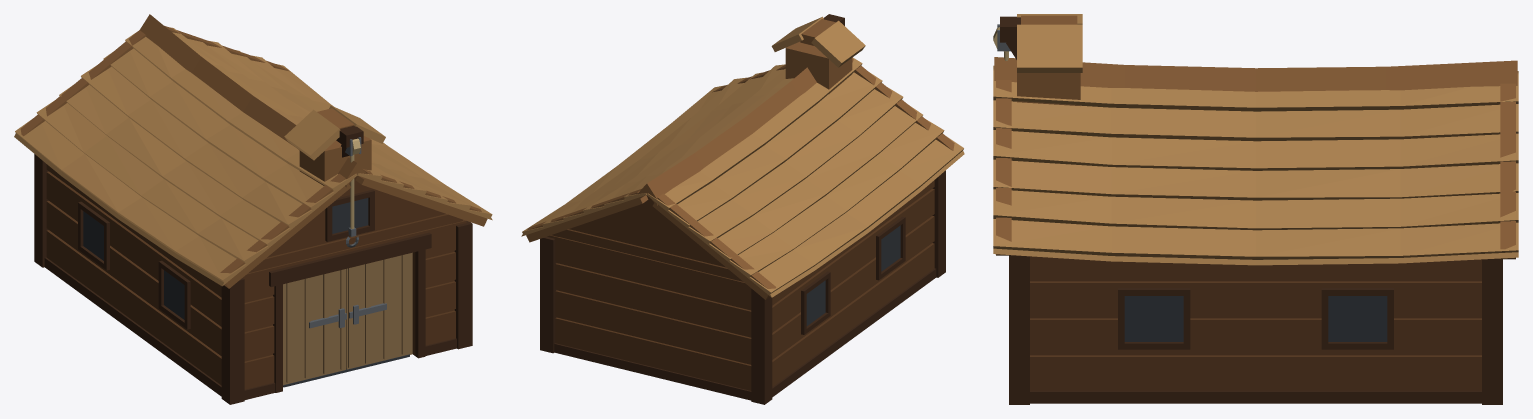
Rendered from warehouse.glb.
3 renders of one model, left to right at view 1: azimuth 30°, elevation 25°; view 2: azimuth 150°, elevation 25°; view 3: azimuth 270°, elevation 25°, orthographic. The views are drawn at different scales.
Visible parts, largest first — view 1: warehouse-shell, door-r-leaf, door-l-leaf; view 2: warehouse-shell; view 3: warehouse-shell.
Part boxes in pixels (<box>): warehouse-shell: <box>14,14,492,404</box>; door-r-leaf: <box>346,252,412,369</box>; door-l-leaf: <box>283,269,346,385</box>; warehouse-shell: <box>521,14,964,404</box>; warehouse-shell: <box>993,14,1518,404</box>.
Bounding box in the file's own units: 6 × 5.23 × 8.
